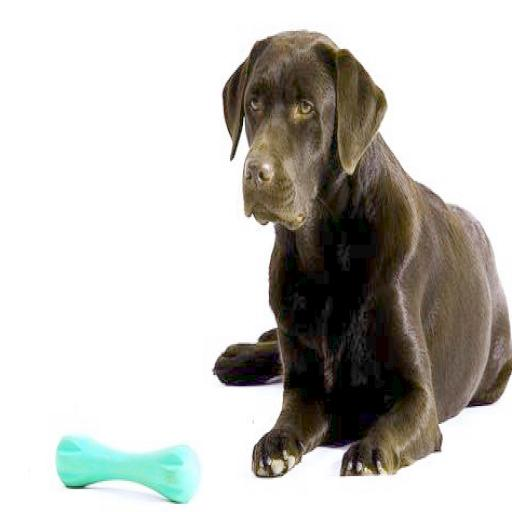dog_face: (219, 24, 382, 222)
